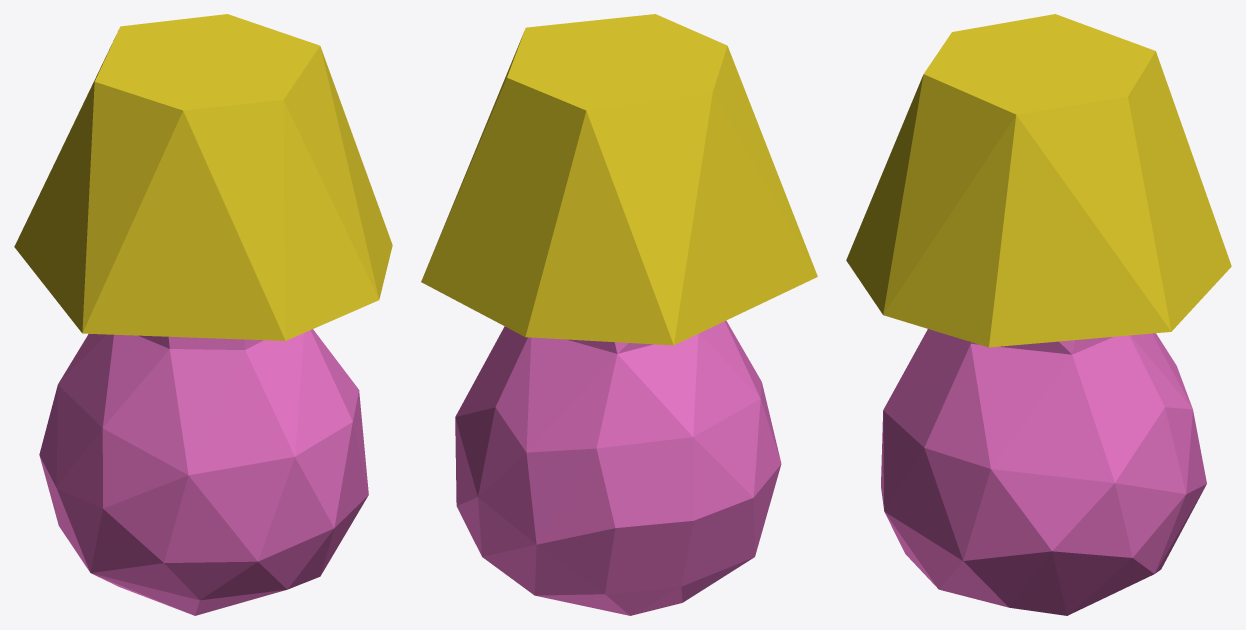
Rendered from Lampara.fbx.
3 views of the same model, side by side, from view 1: azimuth 30°, elevation 25°; view 2: azimuth 150°, elevation 25°; view 3: azimuth 270°, elevation 25° (orthographic).
Visible parts, largest first — view 1: Cylinder; view 2: Cylinder; view 3: Cylinder.
Part boxes in pixels (x1,y1,x2,y2): Cylinder: (14, 14, 392, 615); Cylinder: (421, 14, 817, 615); Cylinder: (846, 14, 1231, 615).
Size of the model in its own units: 346 by 543 by 357.
